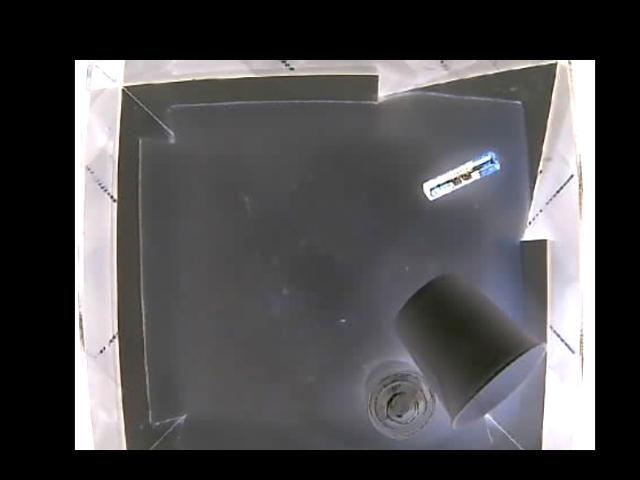Battery: (421, 154, 499, 198)
Bottle: (363, 355, 436, 434)
Cup: (395, 271, 542, 428)
